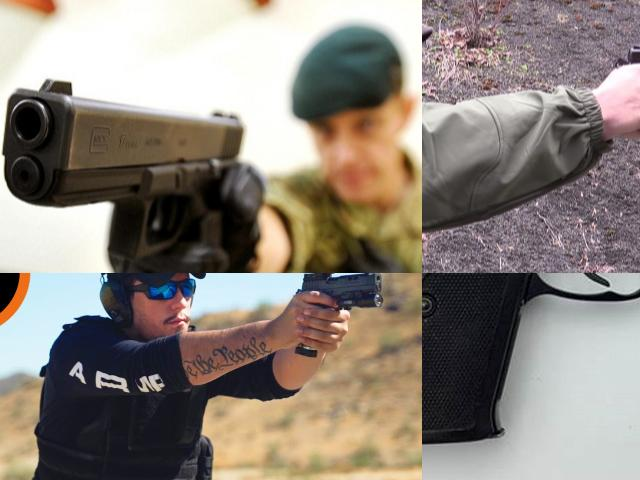handgun: (0, 73, 247, 273), (422, 273, 640, 448), (290, 273, 387, 359), (612, 39, 640, 104)
